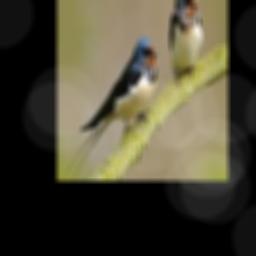Swallow: (66, 38, 158, 178), (169, 0, 203, 79)
